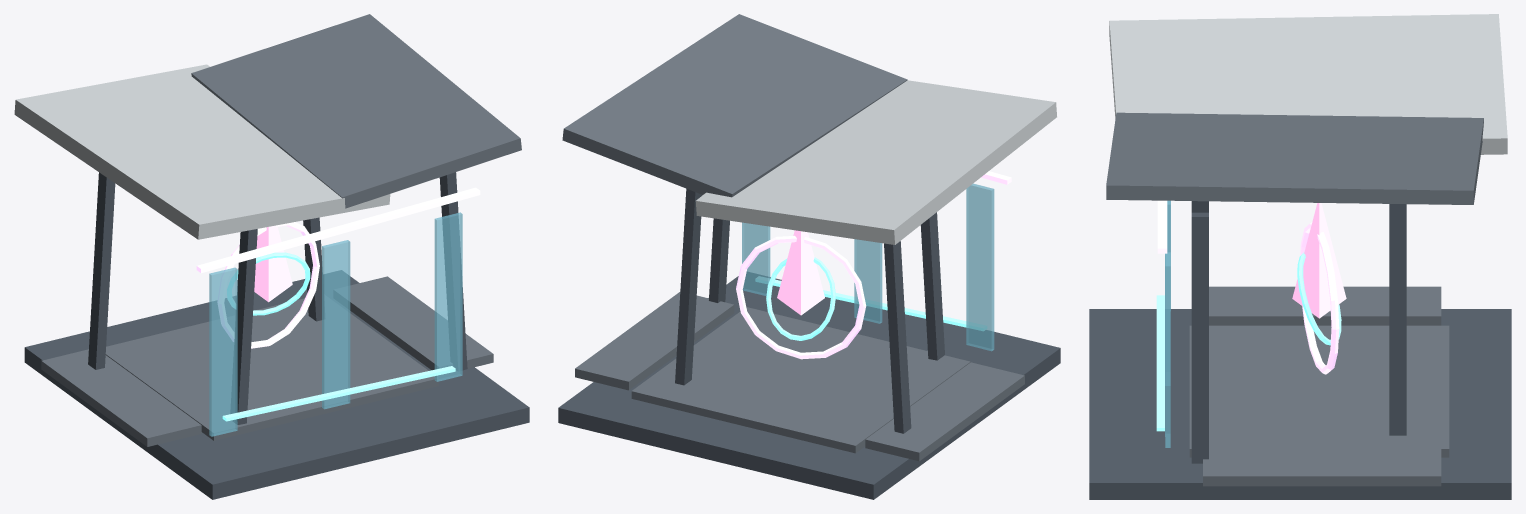
File: design-pavilion-lod2.0fcdde264b57.glb
The picture shows the model from 3 angles, left to right: view 1: azimuth 30°, elevation 25°; view 2: azimuth 150°, elevation 25°; view 3: azimuth 270°, elevation 25°; orthographic projection. The views are drawn at different scales.
Parts seen in each view (by area): view 1: roof_right, roof_left, pavilion_base, pavilion_stage, terrace_-1, terrace_1, glass_facade_0, glass_facade_2, glass_facade_1, cantilever_pillar_0, cantilever_pillar_3, cantilever_pillar_1 (+6 smaller); view 2: roof_right, roof_left, pavilion_stage, pavilion_base, terrace_-1, terrace_1, glass_facade_0, cantilever_pillar_0, cantilever_pillar_2, design_orbit_outer, cantilever_pillar_1, design_prism_core (+5 smaller); view 3: roof_left, pavilion_base, roof_right, pavilion_stage, terrace_1, terrace_-1, cantilever_pillar_3, cantilever_pillar_2, design_prism_core, design_orbit_outer, cyan_ribbon, glass_facade_2 (+3 smaller).
Boxes of the visible parts, <box> form: roof_right: <box>191,14,521,208</box>; roof_left: <box>14,64,390,239</box>; pavilion_base: <box>24,270,529,499</box>; pavilion_stage: <box>105,295,438,440</box>; terrace_-1: <box>41,349,201,446</box>; terrace_1: <box>333,276,493,375</box>; glass_facade_0: <box>209,267,237,436</box>; glass_facade_2: <box>434,212,462,381</box>; glass_facade_1: <box>322,240,350,409</box>; cantilever_pillar_0: <box>88,172,115,369</box>; cantilever_pillar_3: <box>439,172,467,371</box>; cantilever_pillar_1: <box>230,229,257,424</box>; roof_right: <box>562,14,907,197</box>; roof_left: <box>695,80,1056,244</box>; pavilion_stage: <box>631,307,970,453</box>; pavilion_base: <box>558,272,1060,499</box>; terrace_-1: <box>865,362,1024,461</box>; terrace_1: <box>575,292,734,390</box>; glass_facade_0: <box>966,183,994,351</box>; cantilever_pillar_0: <box>884,241,911,433</box>; cantilever_pillar_2: <box>675,188,702,385</box>; design_orbit_outer: <box>736,235,866,359</box>; cantilever_pillar_1: <box>920,212,944,360</box>; design_prism_core: <box>777,230,824,315</box>; roof_left: <box>1109,14,1507,154</box>; pavilion_base: <box>1089,309,1511,499</box>; roof_right: <box>1106,112,1483,204</box>; pavilion_stage: <box>1189,325,1449,457</box>; terrace_1: <box>1203,446,1441,486</box>; terrace_-1: <box>1209,286,1441,325</box>; cantilever_pillar_3: <box>1191,212,1208,463</box>; cantilever_pillar_2: <box>1389,204,1406,435</box>; design_prism_core: <box>1292,203,1346,318</box>; design_orbit_outer: <box>1300,222,1339,374</box>; cyan_ribbon: <box>1156,295,1164,431</box>; glass_facade_2: <box>1165,252,1170,447</box>.
Size of the model in its own units: 8.33 by 6.43 by 7.8.
